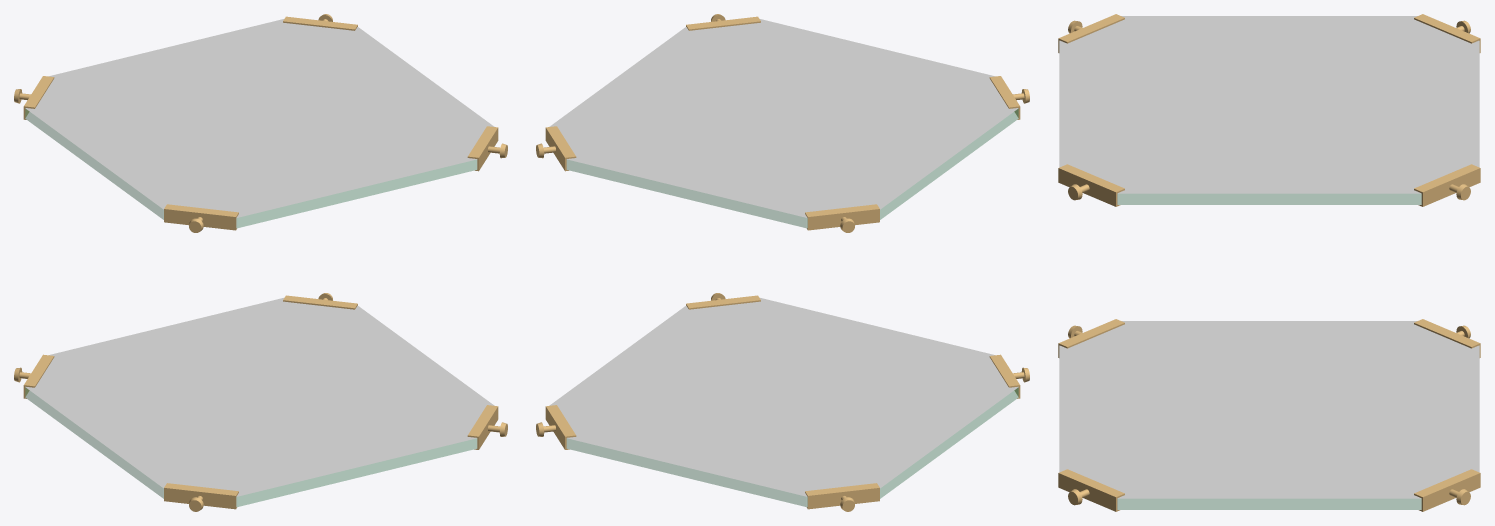
Rendered from table.glb.
3 renders of one model, left to right at view 1: azimuth 30°, elevation 25°; view 2: azimuth 150°, elevation 25°; view 3: azimuth 270°, elevation 25°, orthographic. The views are drawn at different scales.
Visible parts, largest first — view 1: Plane, Plane.007; view 2: Plane, Plane.007; view 3: Plane, Plane.007.
Boxes of the visible parts, x1,y1,x2,y2 form: Plane: [25, 19, 494, 507]; Plane.007: [14, 14, 507, 511]; Plane: [549, 19, 1018, 507]; Plane.007: [536, 14, 1029, 511]; Plane: [1059, 16, 1479, 509]; Plane.007: [1058, 14, 1480, 511].
Size of what is drawn, in the model's own units: 0.5018 by 0.4194 by 0.5018.
